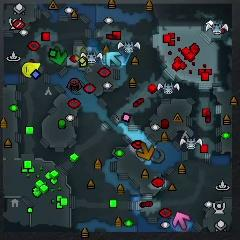p4: (21, 63, 41, 78)
x1: (173, 212, 190, 229)
x2: (77, 48, 89, 63)
x3: (106, 51, 122, 66)
x4: (51, 47, 67, 64)
x5: (137, 142, 155, 161)
